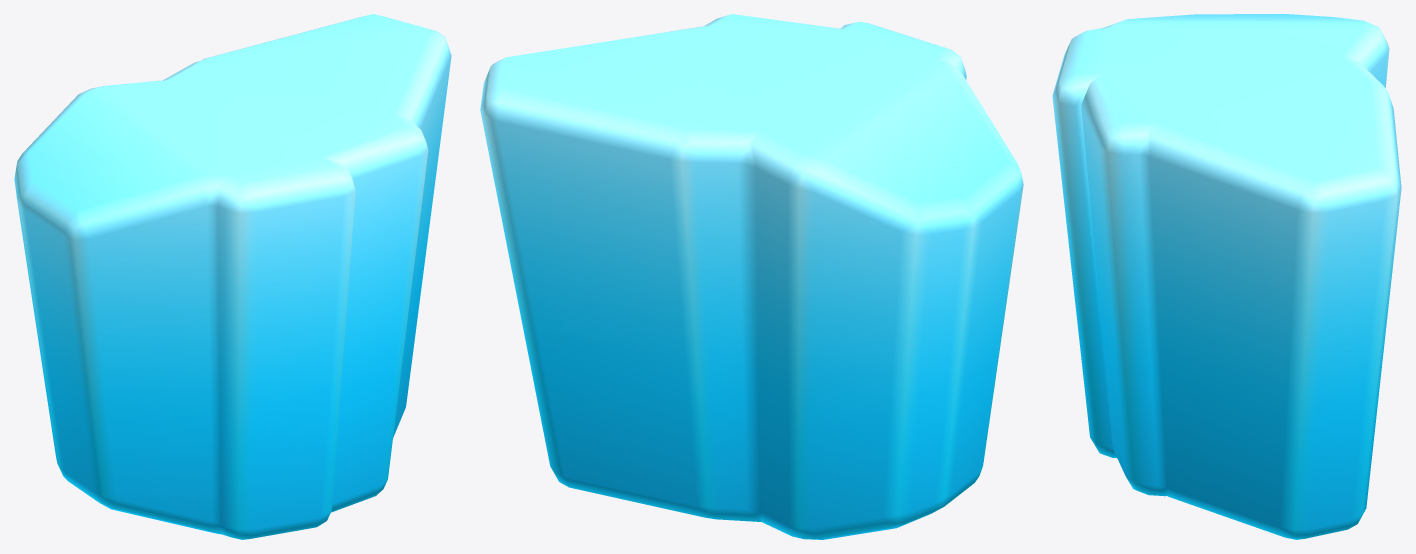
Rendered from ice_002.glb.
The picture shows the model from 3 angles, left to right: view 1: azimuth 30°, elevation 25°; view 2: azimuth 150°, elevation 25°; view 3: azimuth 270°, elevation 25°; orthographic projection. The views are drawn at different scales.
Visible parts, largest first — view 1: ice_002; view 2: ice_002; view 3: ice_002.
Boxes of the visible parts, left/top/right/bottom form: ice_002: left=14, top=14, right=451, bottom=539; ice_002: left=480, top=14, right=1023, bottom=539; ice_002: left=1052, top=14, right=1401, bottom=539.
Bounding box in the file's own units: 3.8 × 3.08 × 2.51.
Materials: 1 (1 with a texture image).
